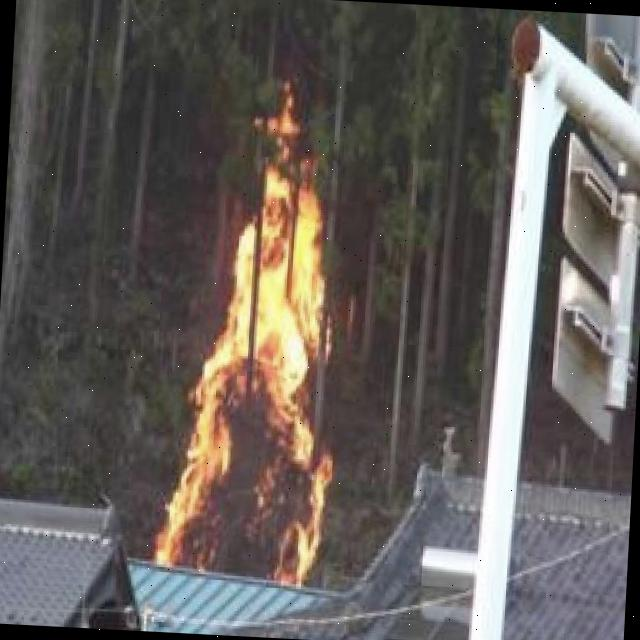fire: (164, 170, 342, 578)
